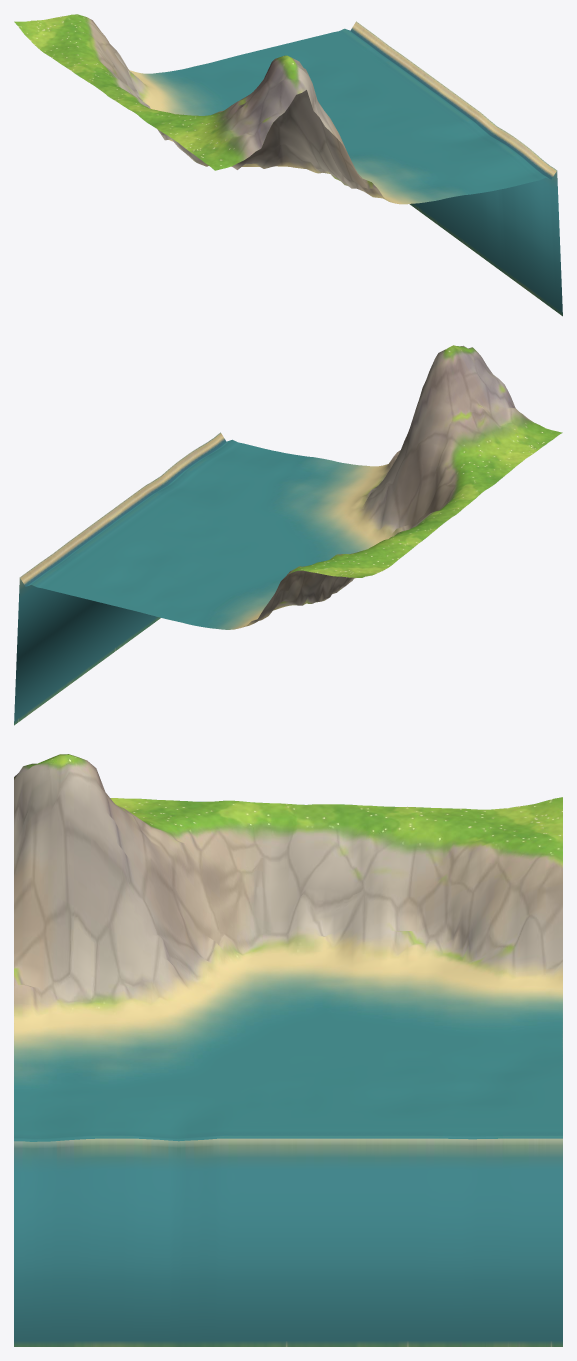
3 renders of one model, top to bottom at view 1: azimuth 30°, elevation 25°; view 2: azimuth 150°, elevation 25°; view 3: azimuth 270°, elevation 25°, orthographic. The views are drawn at different scales.
Visible parts, largest first — view 1: t192_128; view 2: t192_128; view 3: t192_128.
Boxes of the visible parts, x1=… form: t192_128: x1=14, y1=14, x2=562, y2=316; t192_128: x1=14, y1=345, x2=562, y2=725; t192_128: x1=14, y1=754, x2=562, y2=1346.
Size of the model in its own units: 64 by 54.22 by 64.
Materials: 1 (1 with a texture image).
